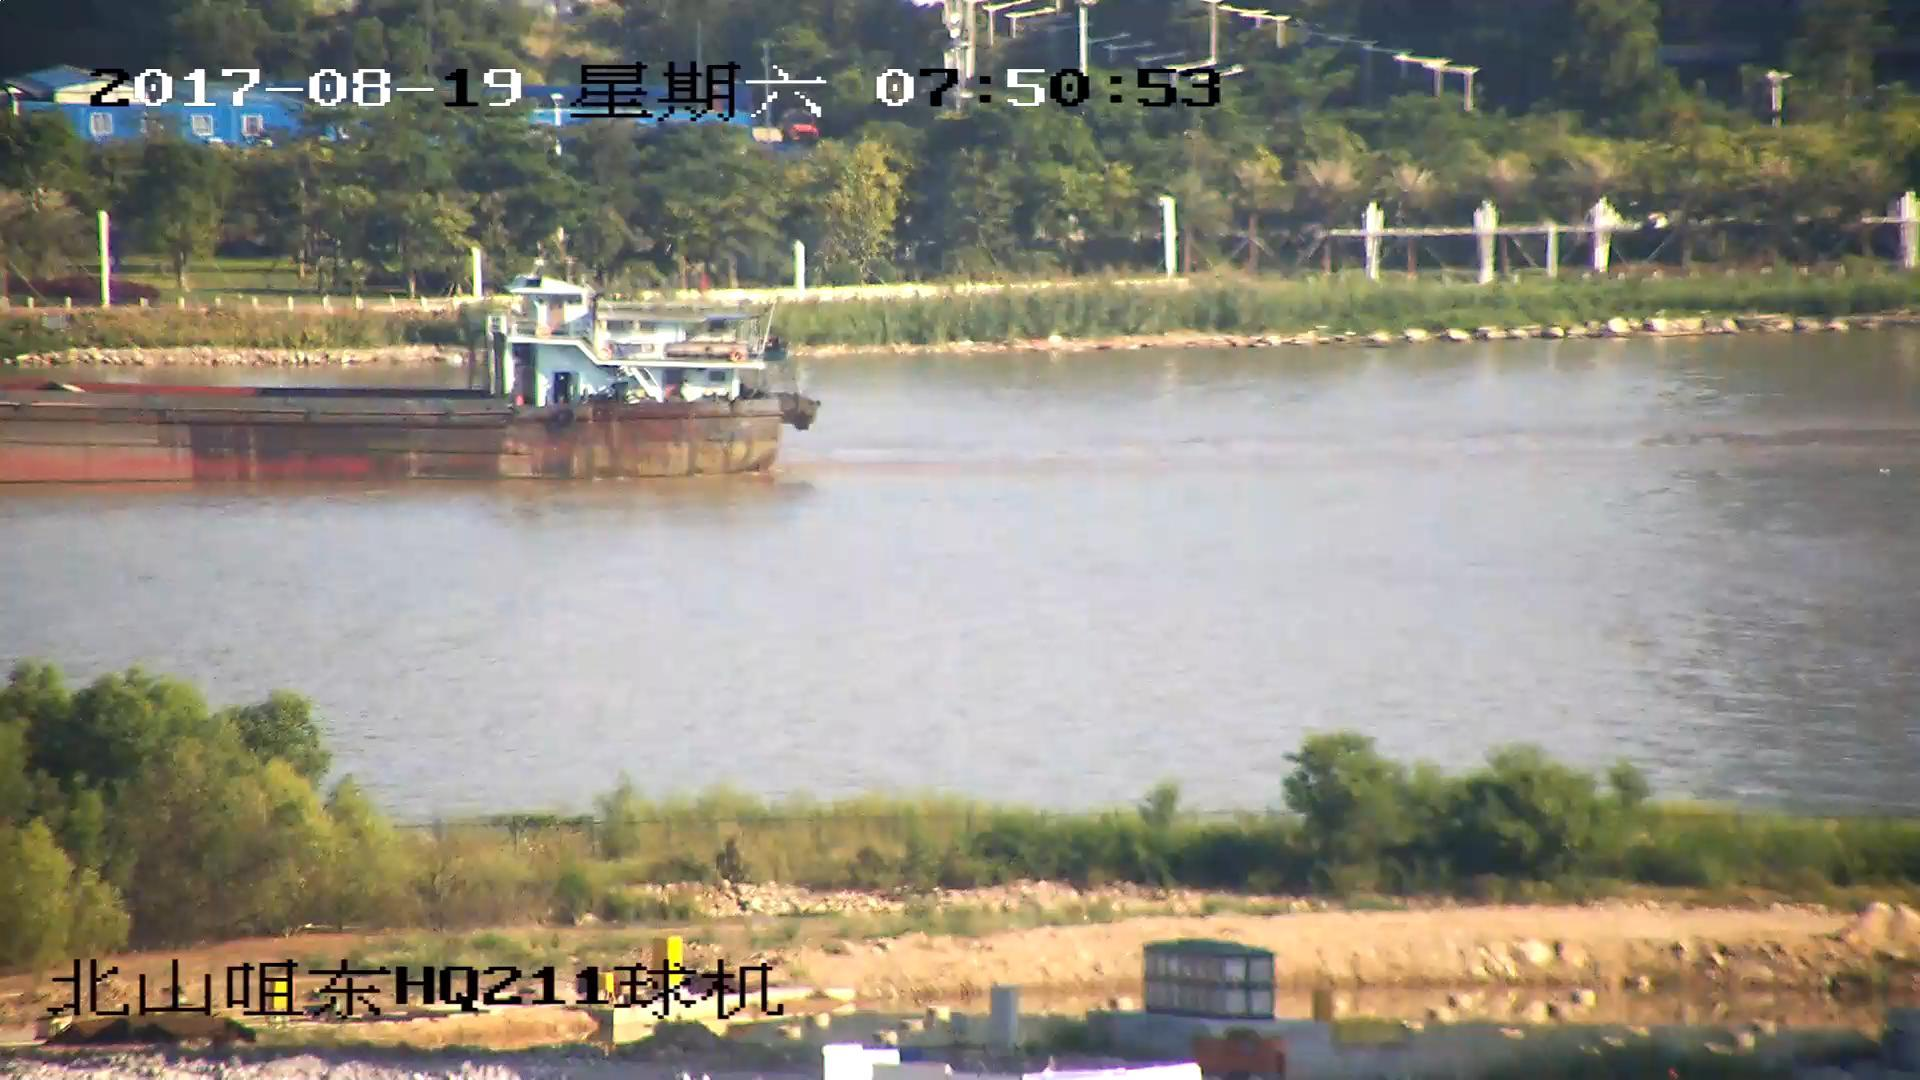Ship: (3, 262, 814, 484)
